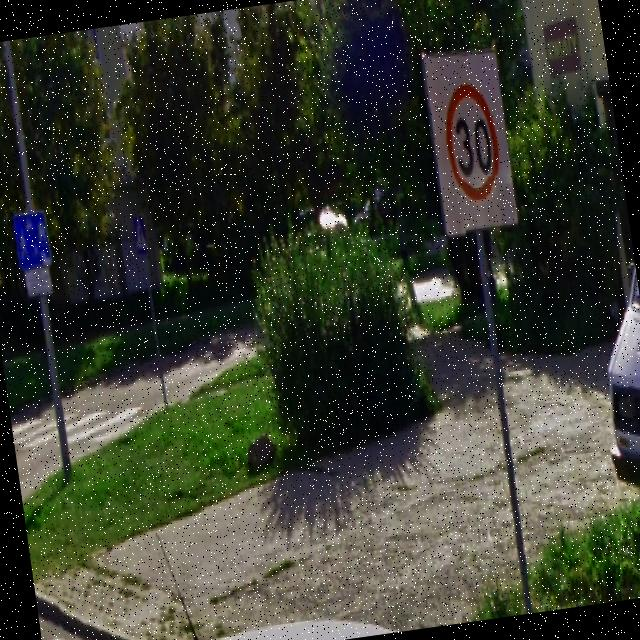Przejscie dla pieszych: (131, 212, 148, 255)
